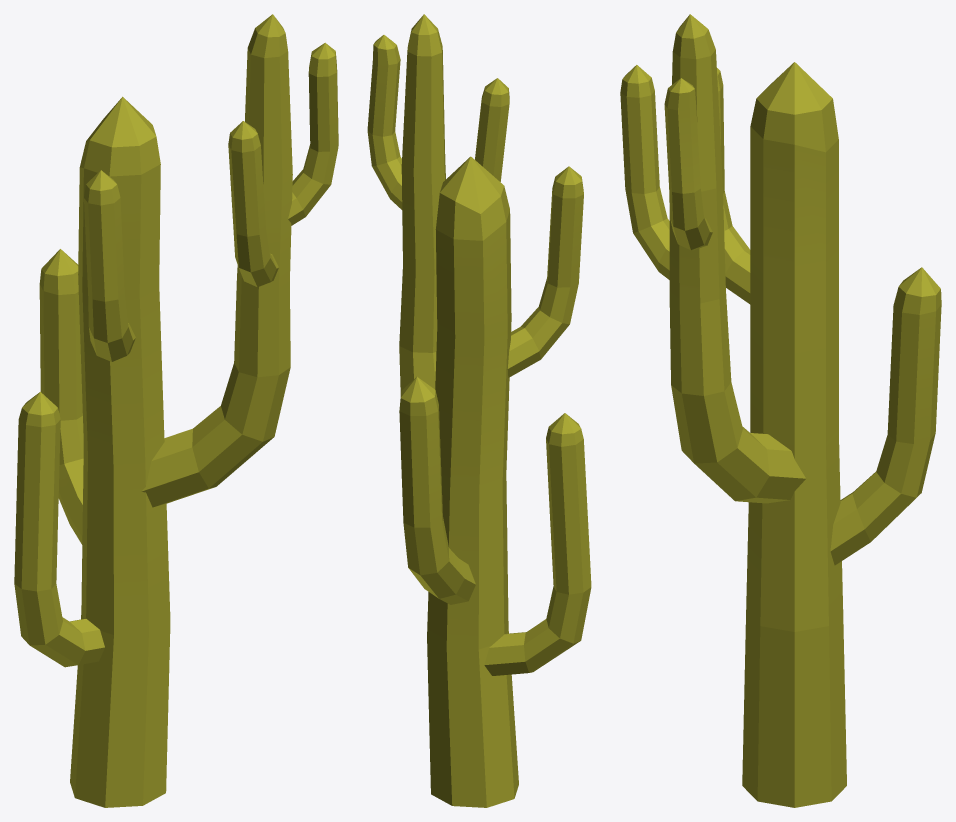
The model's file is Cactus_Yellow_1.fbx.
The picture shows the model from 3 angles, left to right: view 1: azimuth 30°, elevation 25°; view 2: azimuth 150°, elevation 25°; view 3: azimuth 270°, elevation 25°; orthographic projection. The views are drawn at different scales.
Parts seen in each view (by area): view 1: Cactus; view 2: Cactus; view 3: Cactus.
Part boxes in pixels (x1,y1,x2,y2): Cactus: (14, 14, 338, 807); Cactus: (367, 14, 591, 807); Cactus: (620, 14, 941, 807).
Size of the model in its own units: 157 by 421 by 148.
